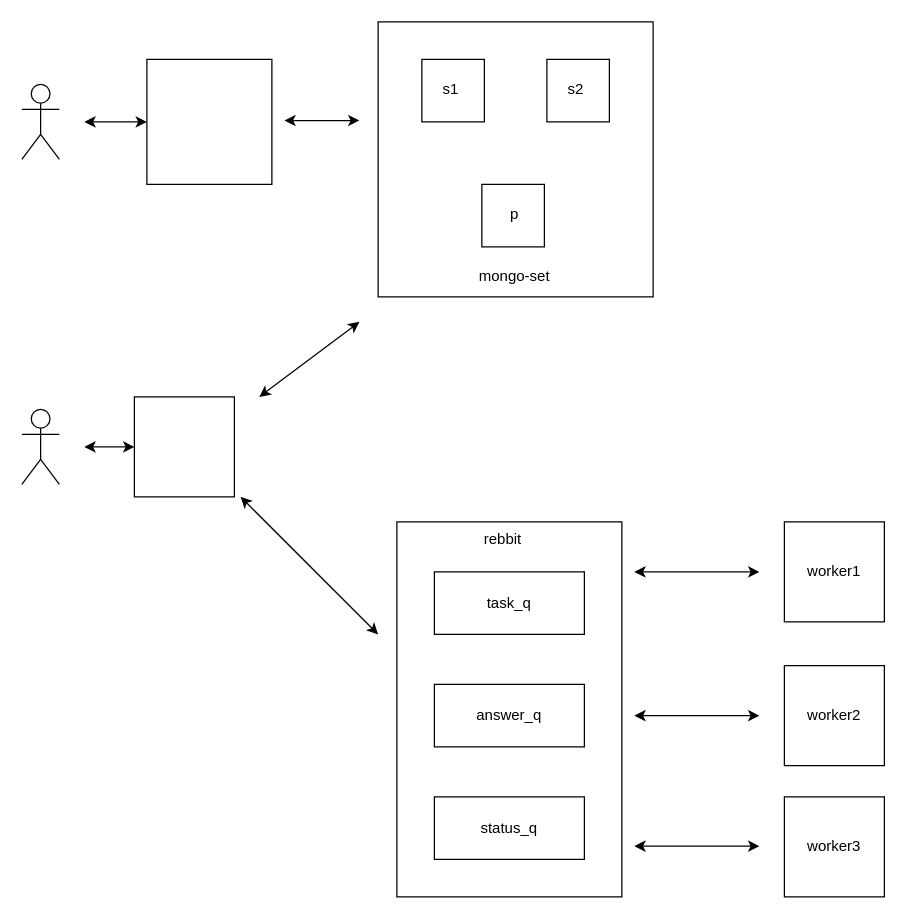
The diagram is 906 pixels wide and 919 high, and some of its shapes have lost their labels. The centre of each missing label's shape, as x and y in pixels:
"Manager" goes at pixel 183 446.
"Mongo-express" goes at pixel 209 121.
